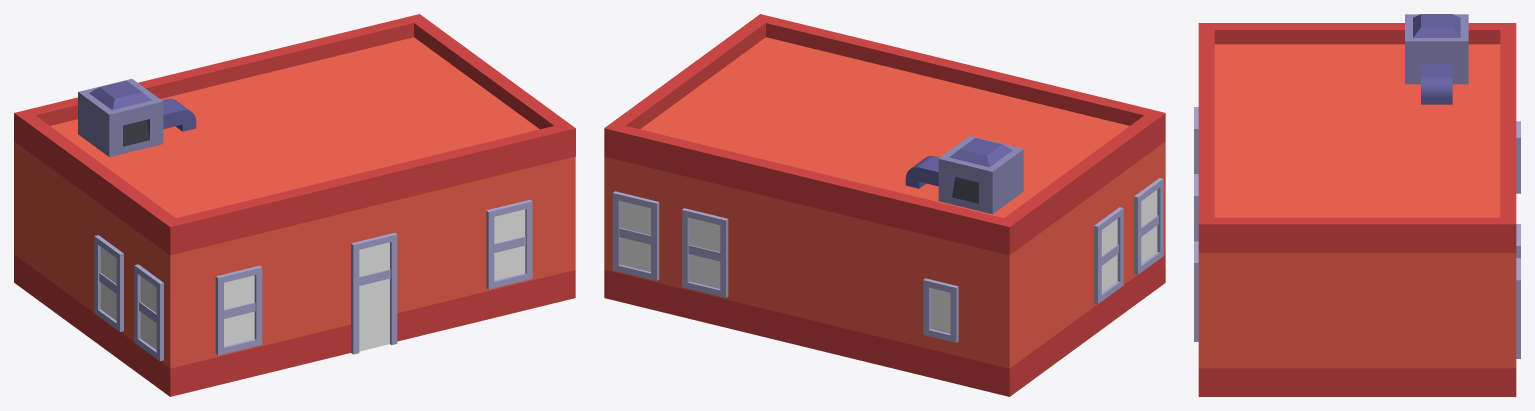
Rendered from flat_house.fbx.
The picture shows the model from 3 angles, left to right: view 1: azimuth 30°, elevation 25°; view 2: azimuth 150°, elevation 25°; view 3: azimuth 270°, elevation 25°; orthographic projection.
Visible parts, largest first — view 1: mergedBlocks; view 2: mergedBlocks; view 3: mergedBlocks.
Part boxes in pixels (x1,y1,x2,y2): mergedBlocks: [14, 14, 575, 396]; mergedBlocks: [604, 14, 1165, 396]; mergedBlocks: [1194, 14, 1520, 396].
Bounding box in the file's own units: 30.3 × 14.5 × 20.6.
